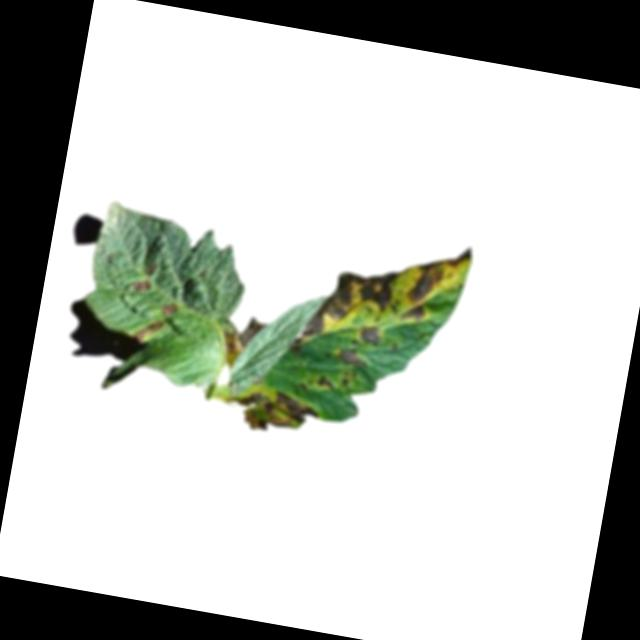Early_blight: (294, 217, 474, 372), (237, 382, 324, 440), (221, 308, 269, 359), (132, 315, 163, 343), (337, 344, 368, 371), (355, 324, 383, 348), (315, 369, 339, 393), (157, 298, 181, 318), (130, 274, 152, 292)
